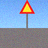sign: (19, 0, 35, 36)
